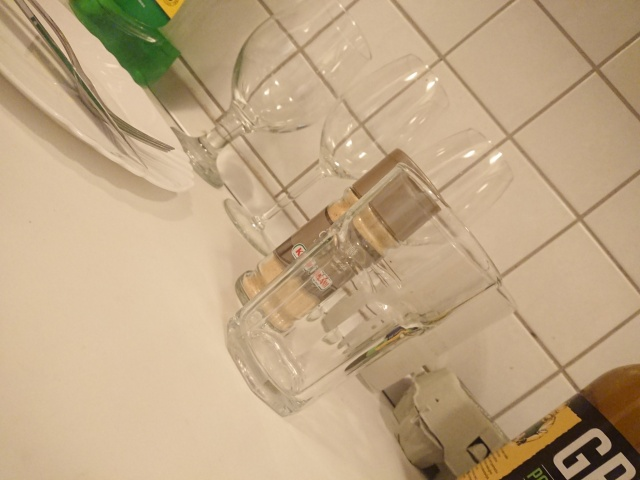Kotanyi Garlic Granules 70g: (233, 142, 450, 335)
